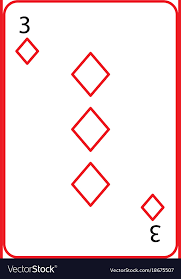three of dimaonds: (8, 5, 177, 258)
